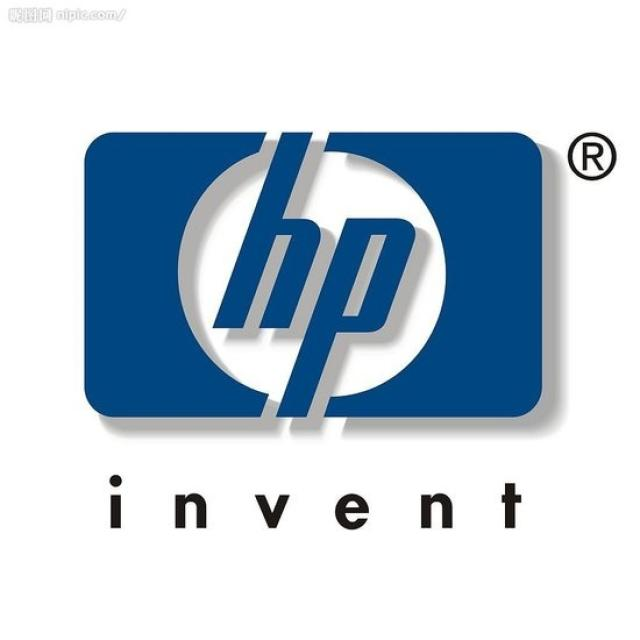HP: (80, 126, 549, 429)
